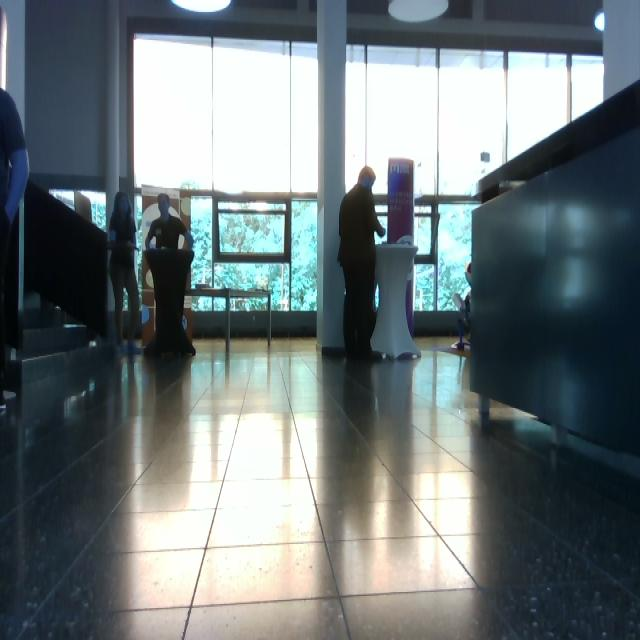light bulb: (388, 1, 449, 24), (171, 1, 231, 13), (594, 10, 605, 32), (453, 293, 463, 310), (480, 152, 490, 162)
person: (337, 167, 387, 363), (1, 88, 30, 410), (144, 193, 196, 357), (108, 192, 142, 354), (451, 263, 473, 351)
pillar: (316, 1, 348, 354)
tiled floor: (2, 333, 639, 638)
window: (132, 31, 319, 315)
